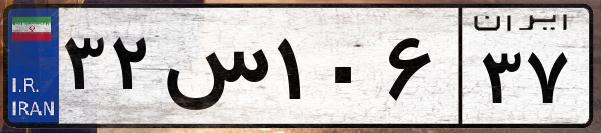0: (330, 28, 385, 110)
1: (270, 28, 330, 110)
2: (110, 28, 158, 98)
3: (57, 26, 110, 100), (475, 38, 525, 113)
6: (385, 28, 445, 110)
7: (525, 38, 570, 115)
س: (158, 20, 270, 120)
